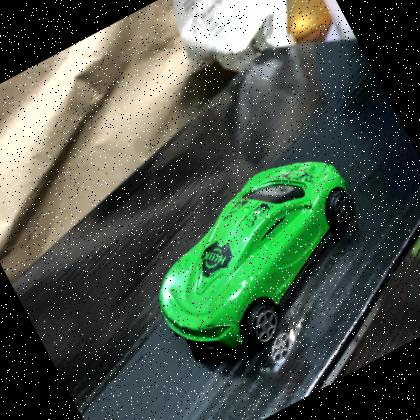Car: (159, 162, 355, 352)
